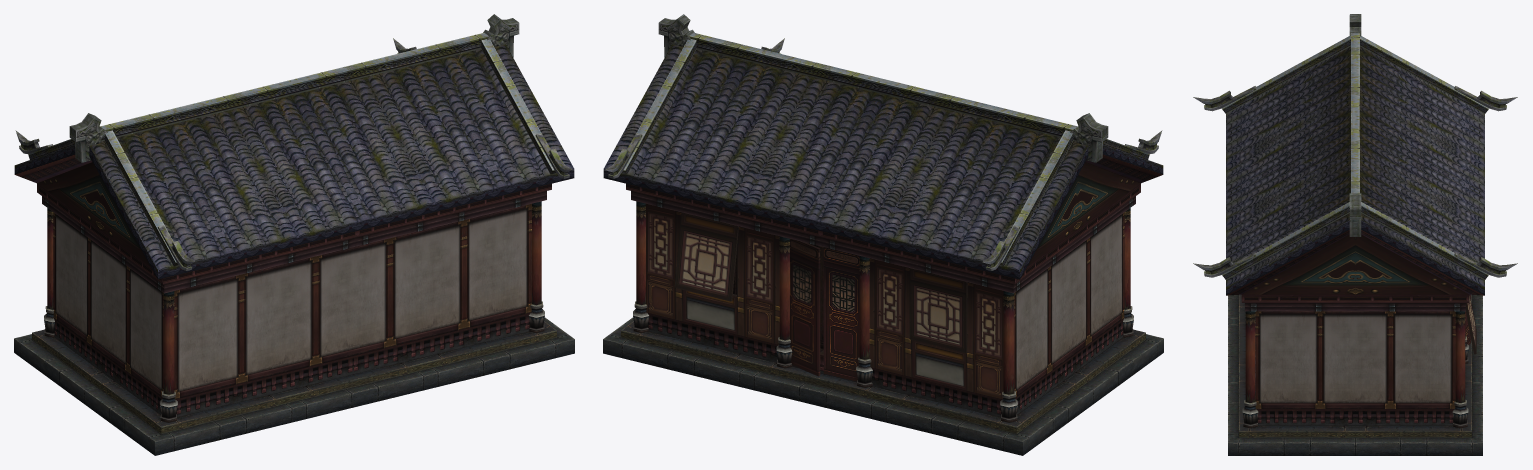
File: HYC_jianzhu_10.FBX
3 views of the same model, side by side, from view 1: azimuth 30°, elevation 25°; view 2: azimuth 150°, elevation 25°; view 3: azimuth 270°, elevation 25° (orthographic). The views are drawn at different scales.
Visible parts, largest first — view 1: HYC_jianzhu_10; view 2: HYC_jianzhu_10; view 3: HYC_jianzhu_10.
Boxes of the visible parts, x1=… form: HYC_jianzhu_10: x1=14, y1=14, x2=574, y2=455; HYC_jianzhu_10: x1=603, y1=14, x2=1163, y2=455; HYC_jianzhu_10: x1=1193, y1=14, x2=1517, y2=455.
Bounding box in the file's own units: 1028 × 637 × 725.
